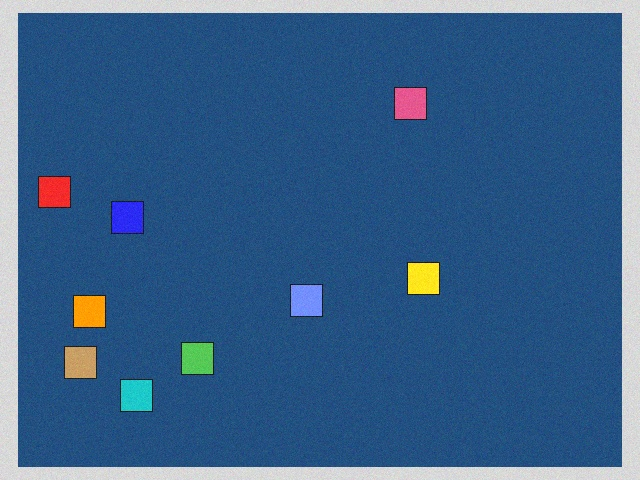block: (65, 340, 109, 378), (121, 372, 162, 411), (73, 293, 117, 328), (39, 176, 84, 210), (181, 337, 219, 375), (390, 87, 426, 126), (112, 201, 153, 233), (403, 262, 439, 295), (290, 282, 322, 316)
